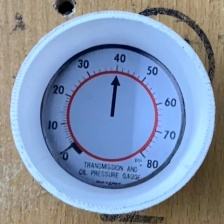gauge: (41, 45, 185, 187)
